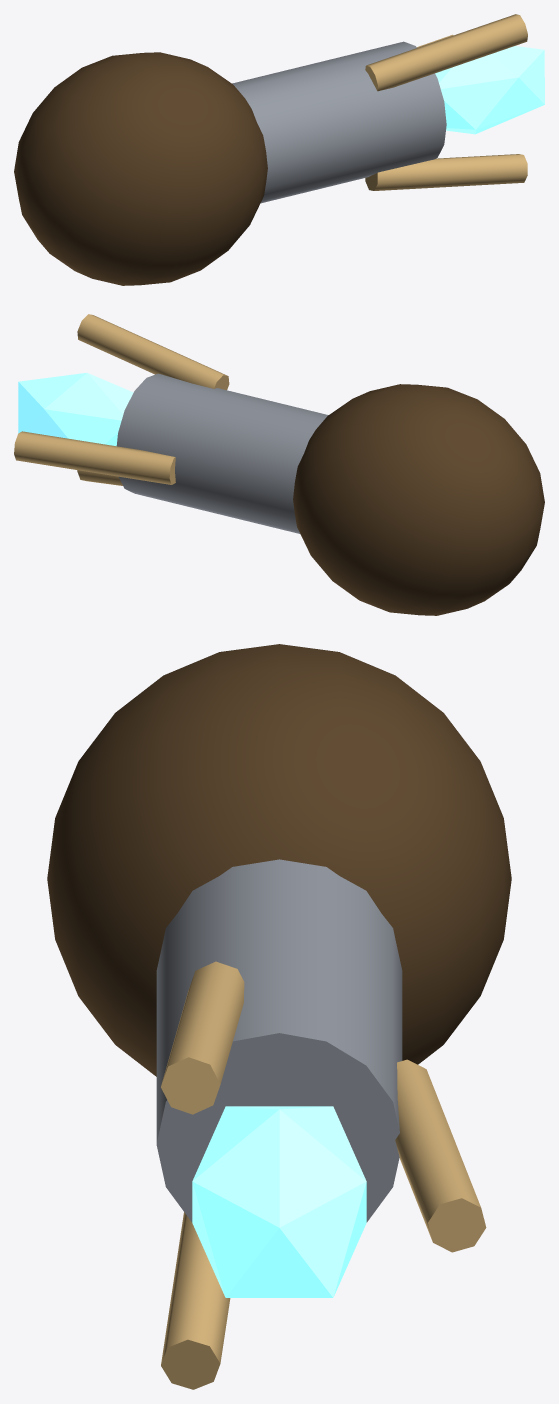
The model's file is laser_head.glb.
3 views of the same model, one above another, from view 1: azimuth 30°, elevation 25°; view 2: azimuth 150°, elevation 25°; view 3: azimuth 270°, elevation 25° (orthographic). The views are drawn at different scales.
Parts seen in each view (by area): view 1: housing, lens, Icosphere, prong.001, prong.002; view 2: housing, lens, Icosphere, prong, prong.001, prong.002; view 3: housing, lens, Icosphere, prong, prong.001, prong.002.
Part boxes in pixels (box(x1,y1,x2,y2)): housing: box(14, 52, 267, 285); lens: box(232, 41, 446, 203); Icosphere: box(435, 46, 544, 134); prong.001: box(365, 14, 527, 91); prong.002: box(365, 154, 527, 190); housing: box(293, 384, 544, 615); lens: box(116, 373, 328, 533); Icosphere: box(18, 373, 133, 446); prong: box(14, 431, 175, 484); prong.001: box(77, 314, 229, 390); prong.002: box(77, 470, 122, 485); housing: box(47, 644, 511, 1076); lens: box(156, 859, 402, 1222); Icosphere: box(192, 1106, 366, 1297); prong: box(395, 1059, 486, 1252); prong.001: box(161, 961, 244, 1114); prong.002: box(161, 1212, 230, 1389).
Bounding box in the file's own units: 8.66 × 3.4 × 3.4.
